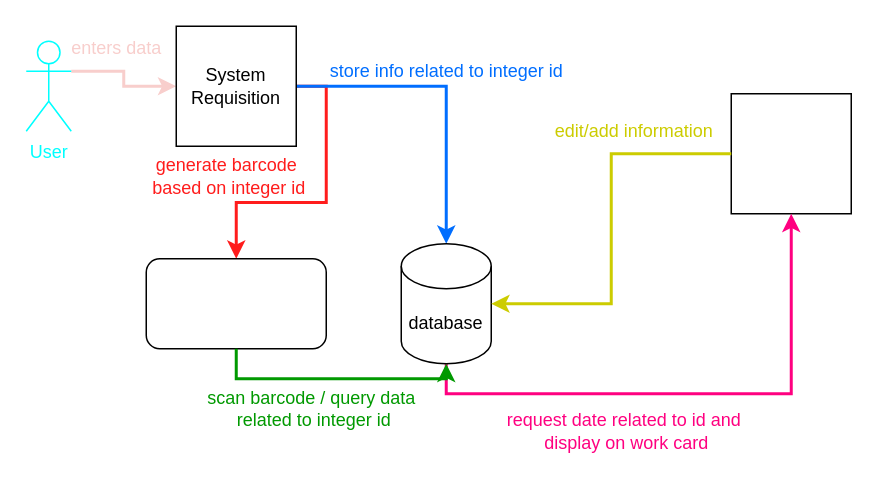
Image size: 878x488. Some labels were removed from this diagram. Each missing label, with the centre of its shape:
"print barcode" goes at point (235, 303).
"Work Card" goes at point (790, 153).
